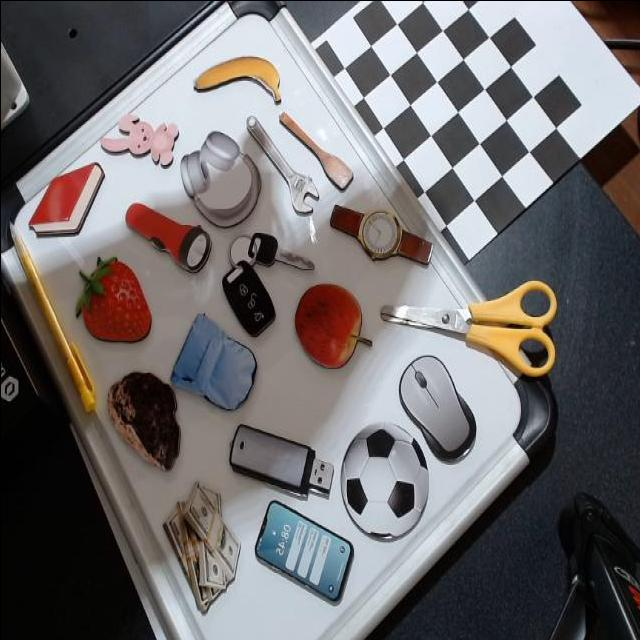Other Objects: (380, 279, 557, 376), (206, 198, 316, 345), (158, 472, 253, 611), (391, 342, 487, 472), (174, 115, 270, 244), (167, 310, 264, 431), (338, 419, 431, 542), (254, 497, 354, 603), (123, 179, 216, 278), (228, 421, 334, 500), (107, 369, 181, 472), (246, 112, 319, 213), (294, 281, 371, 369), (329, 203, 434, 264), (279, 109, 354, 189), (194, 46, 285, 103), (100, 111, 179, 165)
